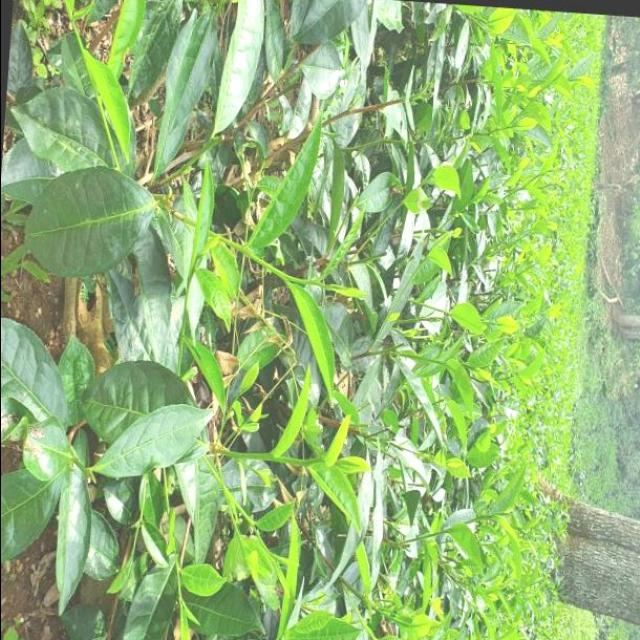Stem: (301, 460, 309, 467), (312, 279, 319, 285), (422, 257, 427, 263), (439, 362, 444, 366), (486, 516, 491, 519)
